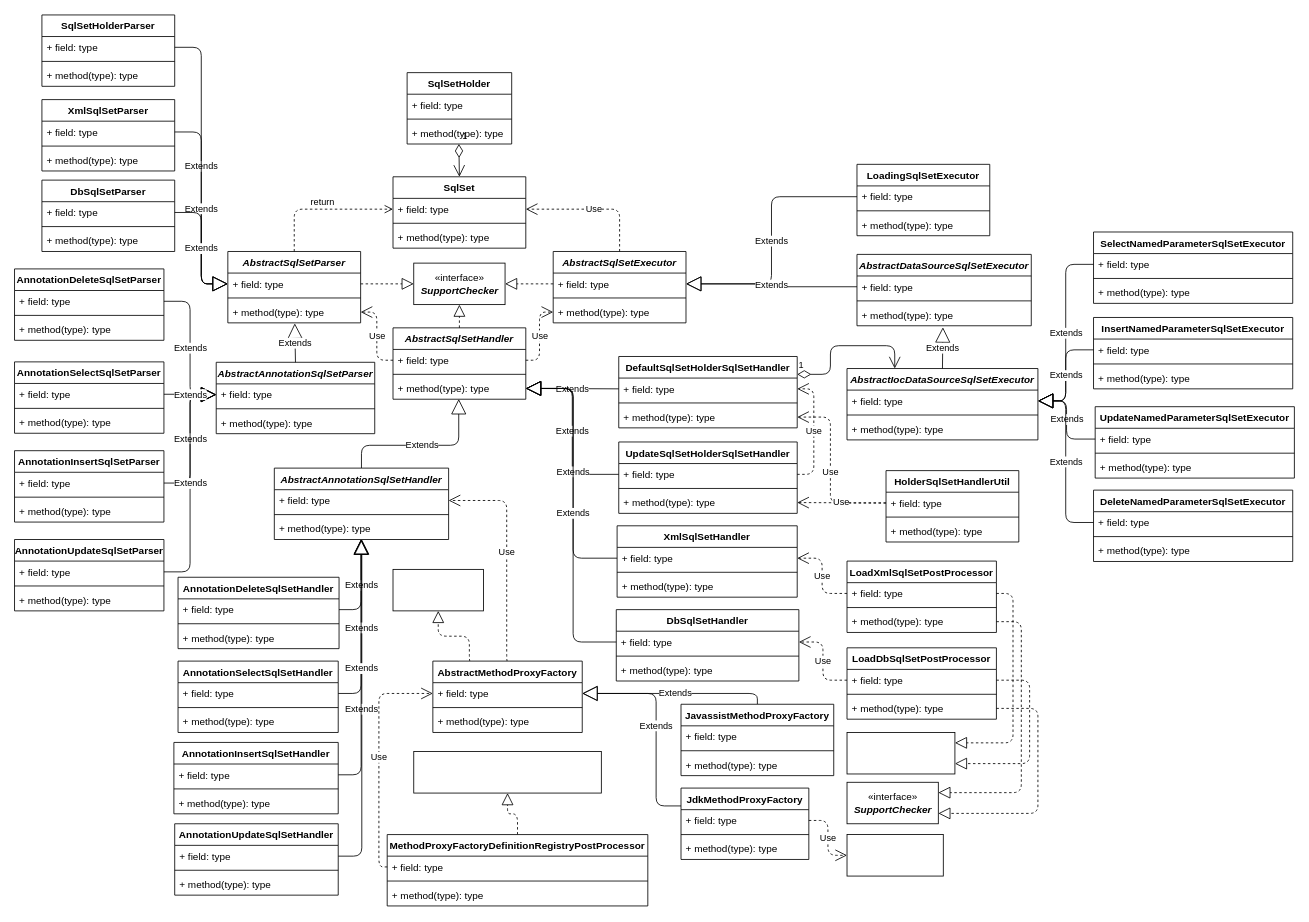
The diagram is 1309 pixels wide and 922 high, and some of its shapes have lost their labels. Here are the shapes that lost their labels. From the top down, the centre of each, then its label:
point (437, 590): «interface» FactoryBean
point (507, 772): «interface» BeanDefinitionRegistryPostProcessor
point (900, 753): «interface» BeanPostProcessor
point (894, 855): «interface» InvocationHandler
